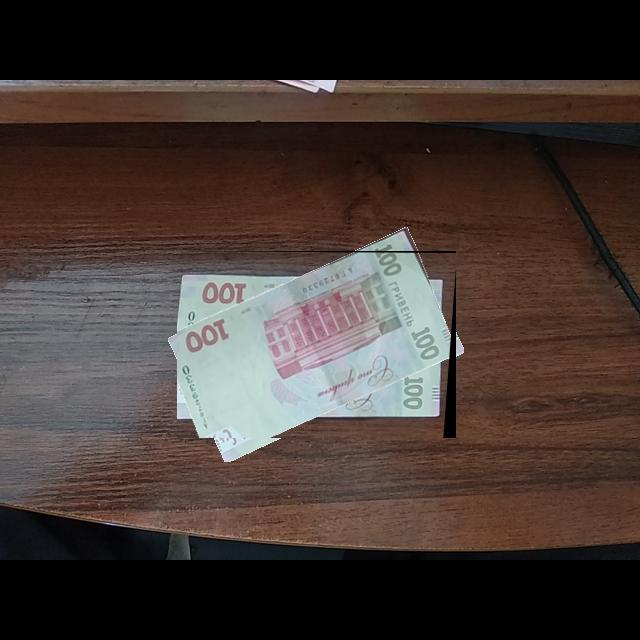100uah: (177, 251, 457, 439)
